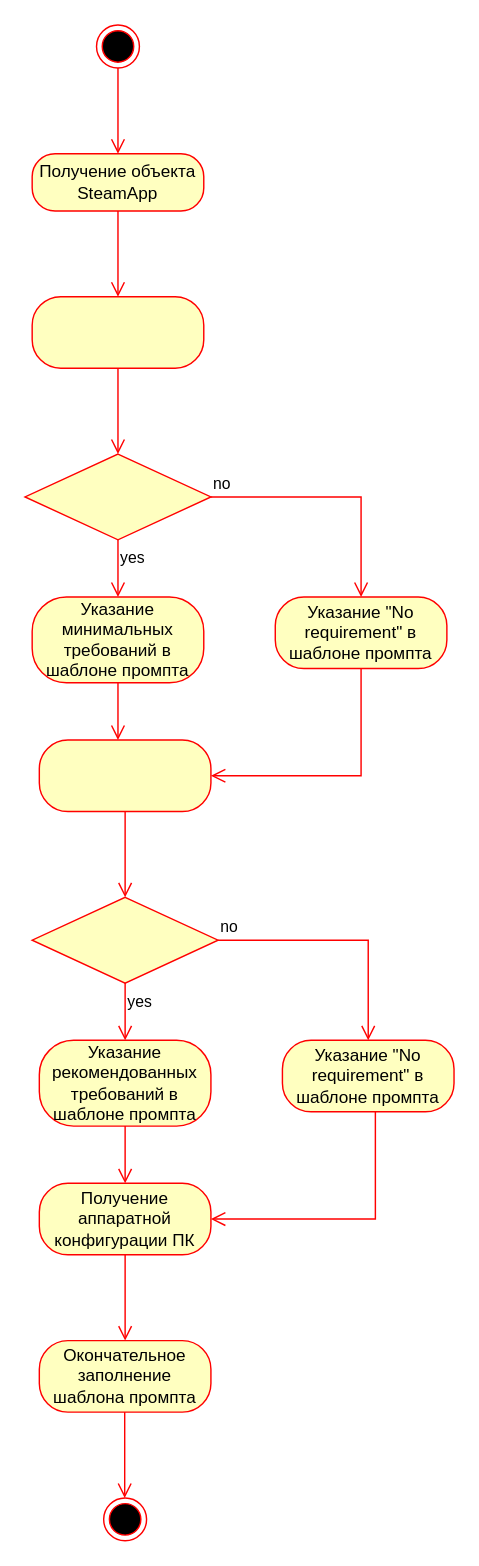
Some shapes in this 479 by 1566 pixel diagram are drawn without their labels. Each missing label, with the centre of its shape:
"Получение минимальные требований" goes at point 117,331.
"Получение рекомендованных требований" goes at point 124,775.
"Указаны минимальные требования?" goes at point 117,496.
"Указаны рекомендованные требования?" goes at point 124,939.
